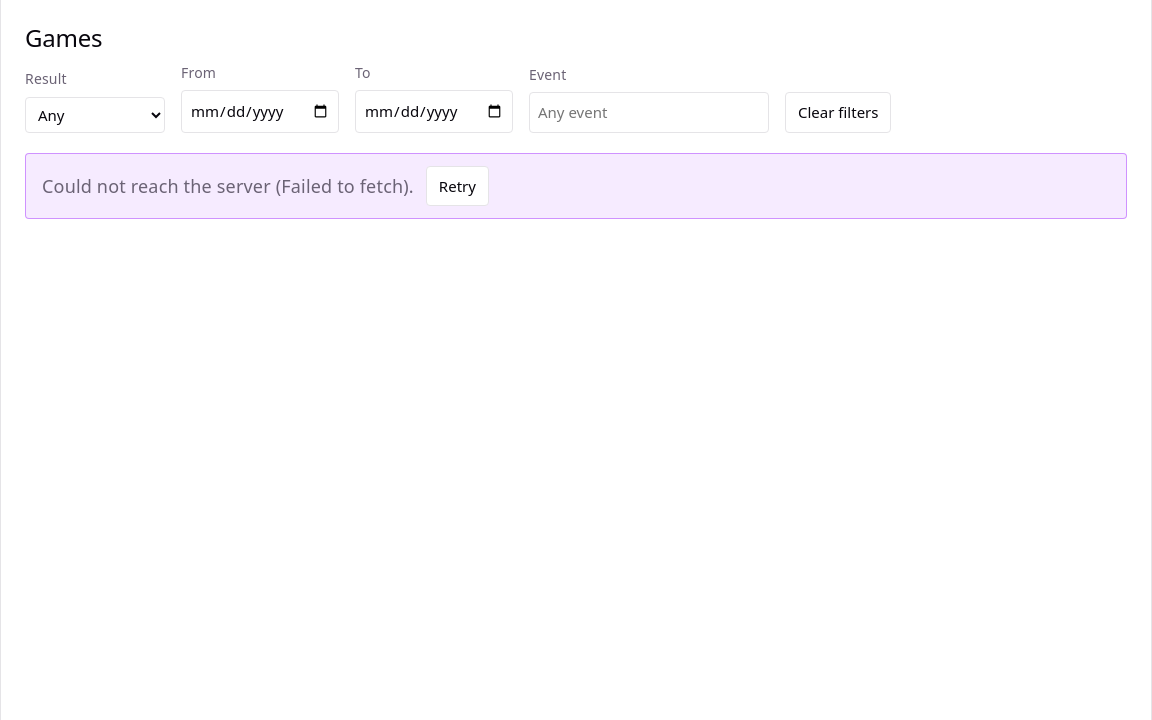
GamesPage › keeps the filters usable when the request fails, and retries
Expected: the message shows "Failed to fetch", [42, 174, 414, 198]
Expected: the search field labelled "Event" is enabled, [529, 92, 769, 132]
What coordinates should you click on to do the following:
click the button "Retry"
I would click on:
 (457, 186)
Its box is [426, 166, 489, 206].
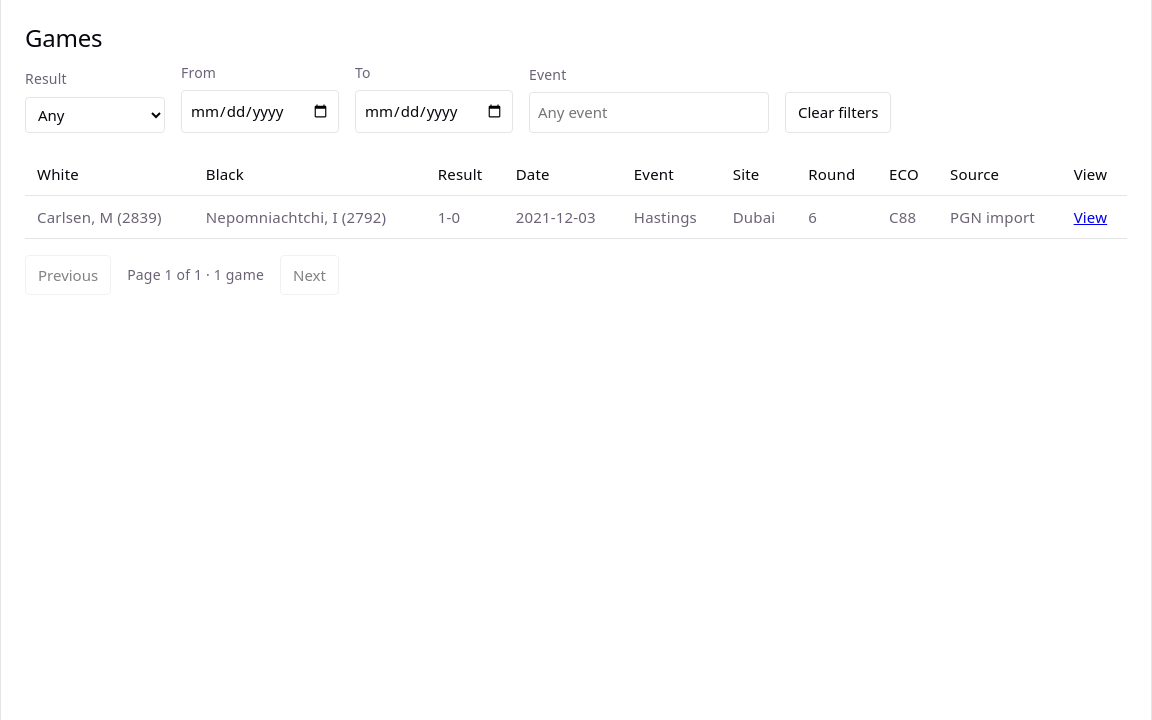
Expected: the text "Hastings" is shown, [622, 196, 721, 238]
